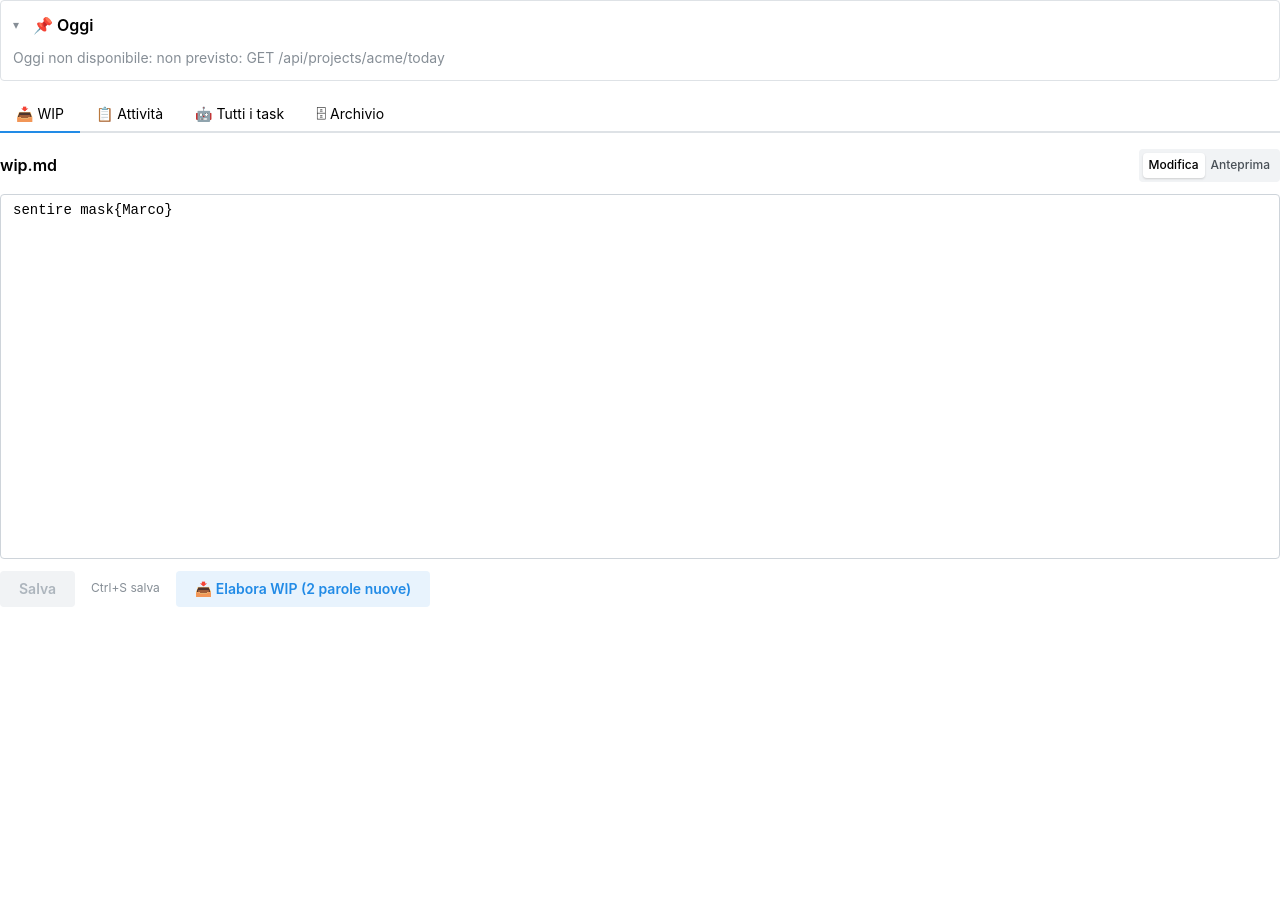
Test: the WIP note › previews the masked text, masks a word by hand, then applies the chosen proposals
Click the button "📥 Elabora WIP (2 parole nuove)" at (303,589), box left=176, top=571, right=430, bottom=607
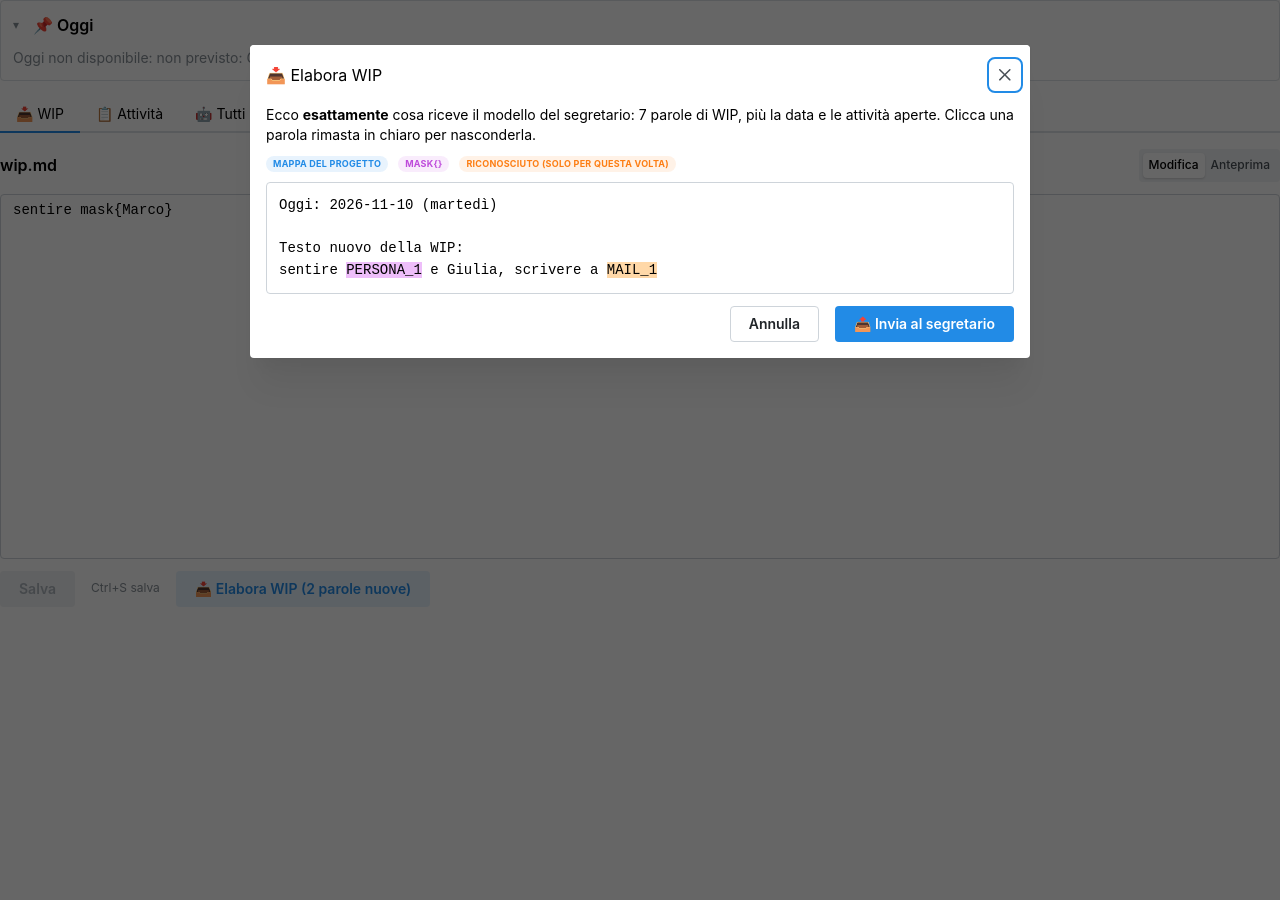
Click the text "Giulia" at (472,270), box left=447, top=262, right=498, bottom=278
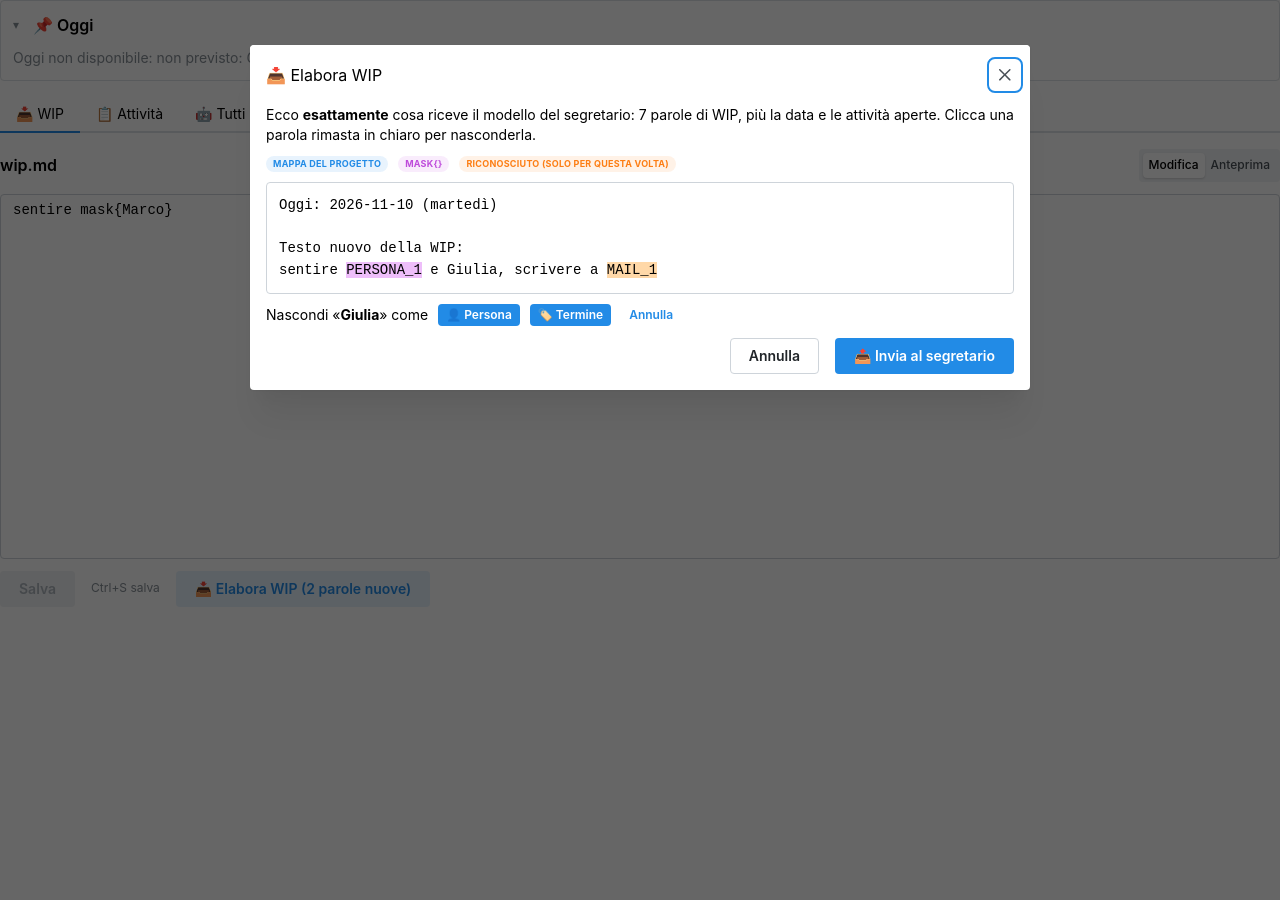
Click the button "👤 Persona" at (479,315), box left=438, top=304, right=520, bottom=326
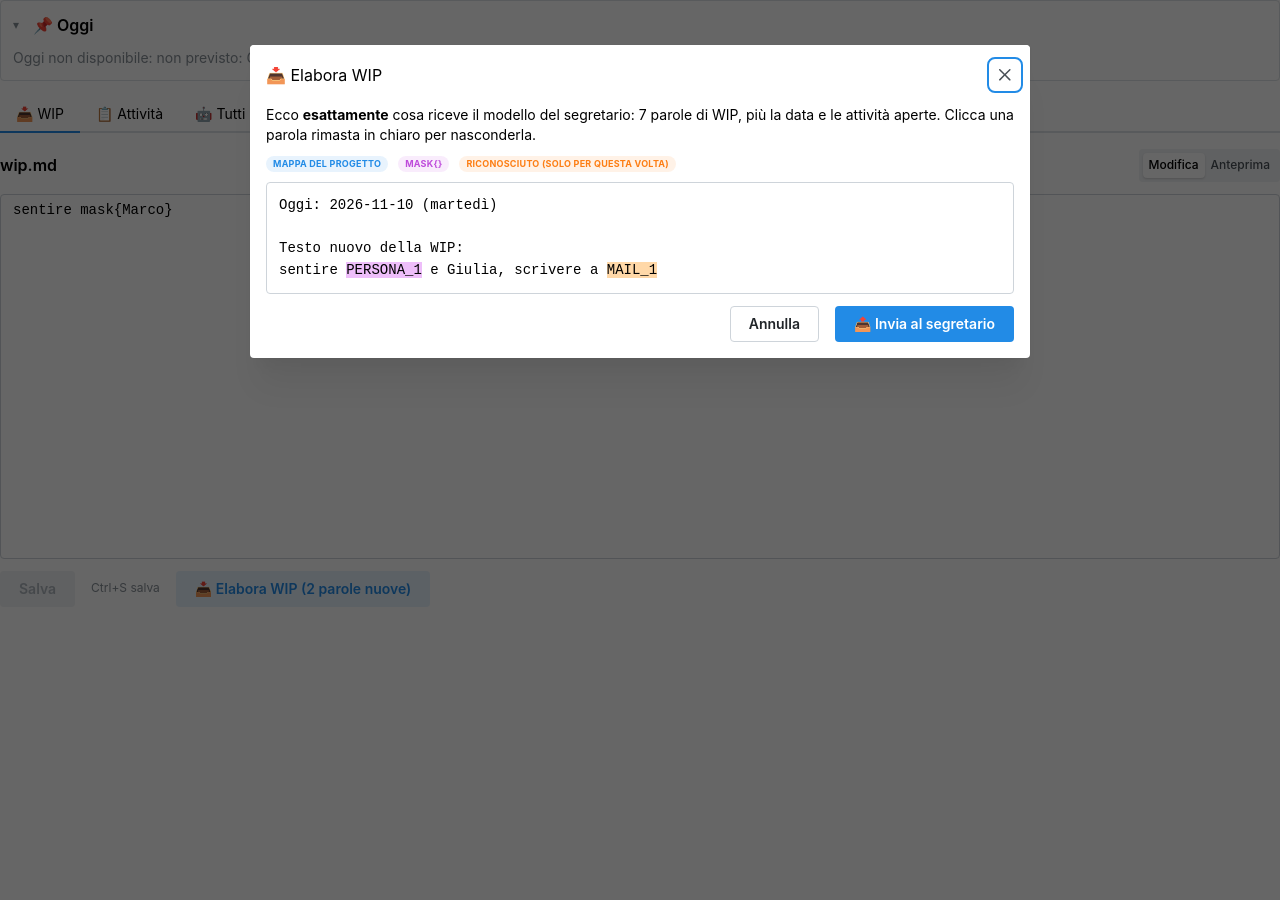
Click the button "📤 Invia al segretario" at (924,324), box left=835, top=306, right=1014, bottom=342
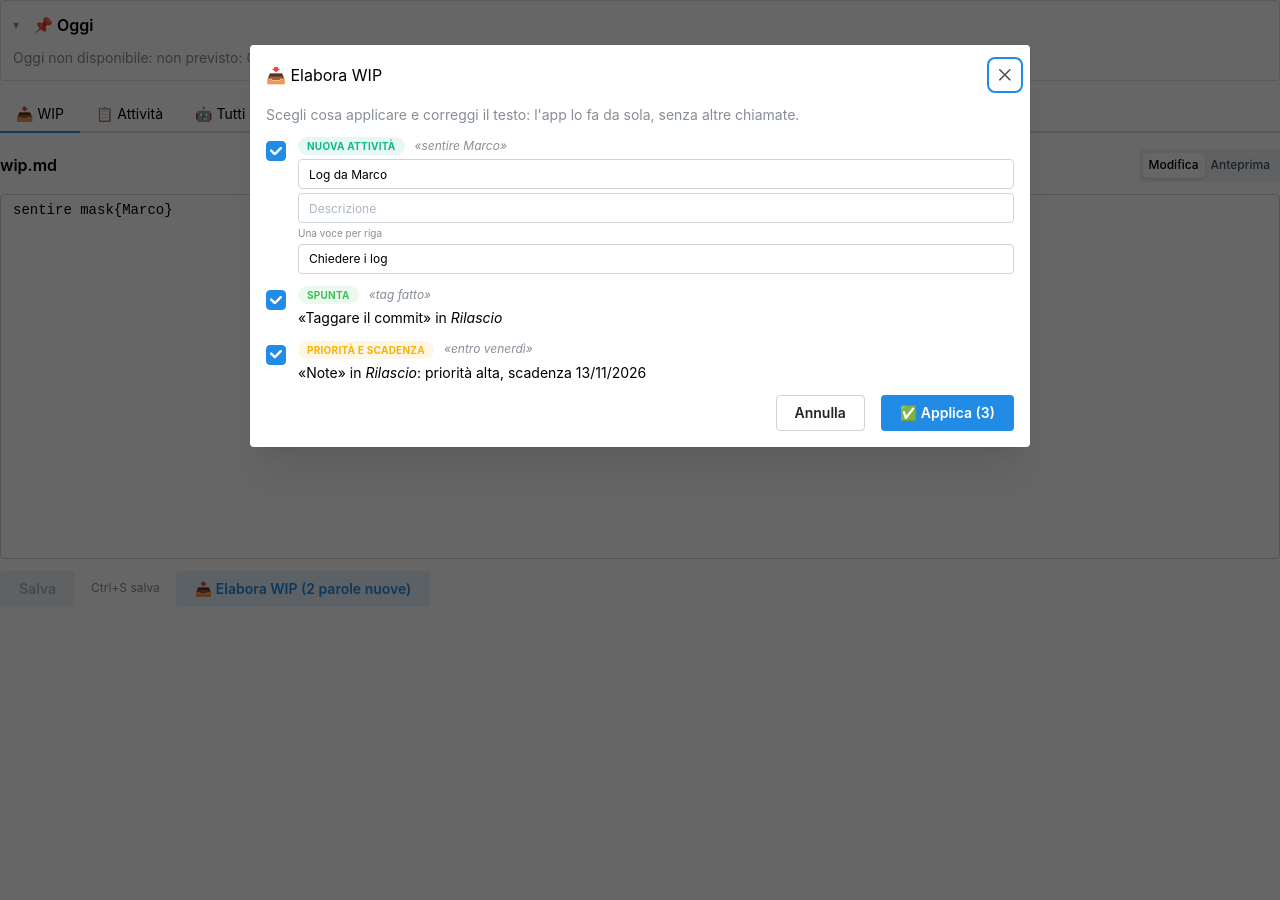
Now the text "«sentire Marco»" is shown, box left=414, top=138, right=507, bottom=155
Now the text "«Note» in Rilascio: priorità alta, scadenza 13/11/2026" is shown, box left=298, top=364, right=646, bottom=381
Replace the text in the field named "Titolo" with "Log dai sistemisti" at (656,174), box left=298, top=159, right=1014, bottom=189
Click the checkbox named "Scegli la proposta 3" at (276,355), box left=266, top=345, right=286, bottom=365
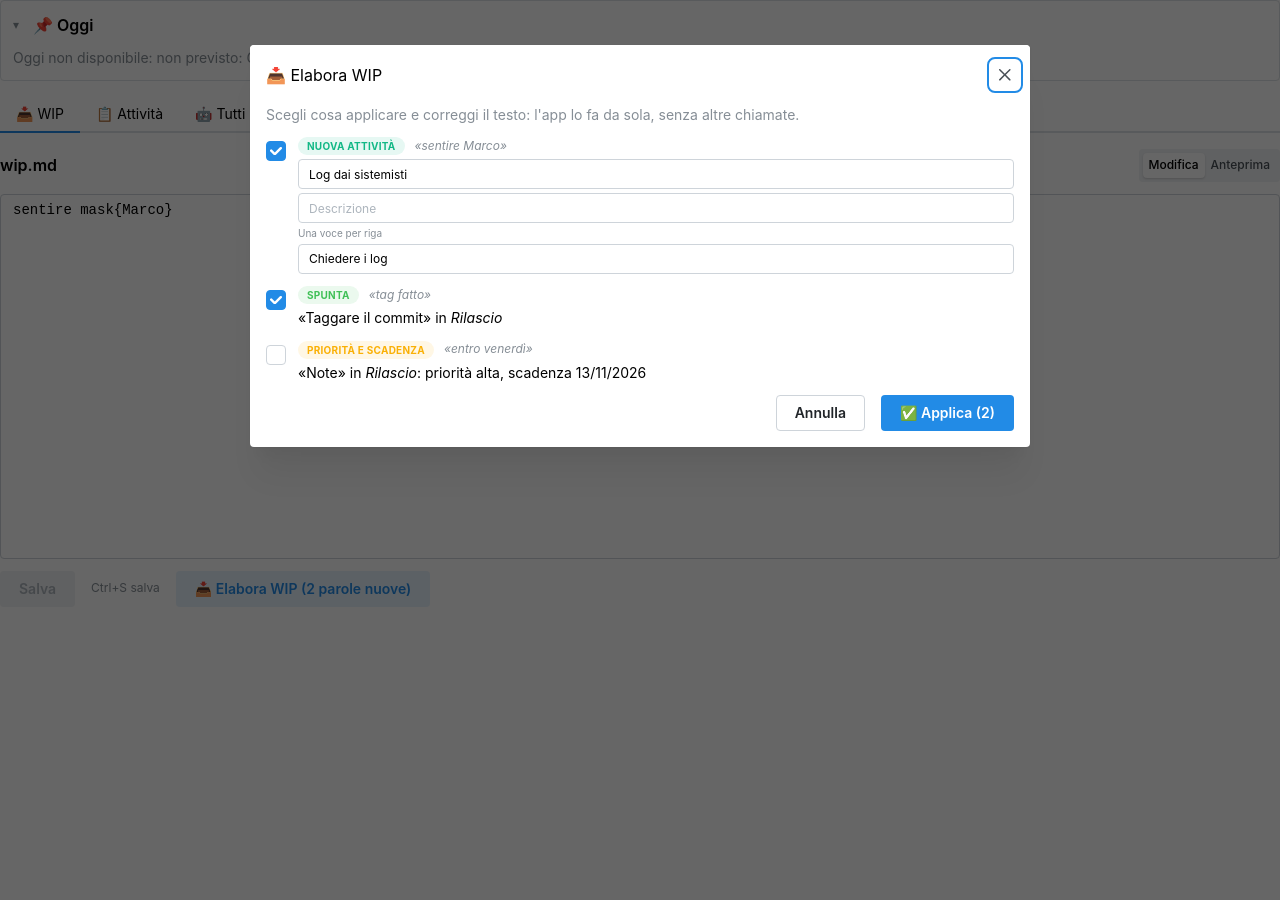
Click the button "✅ Applica (2)" at (948,413), box left=881, top=395, right=1014, bottom=431
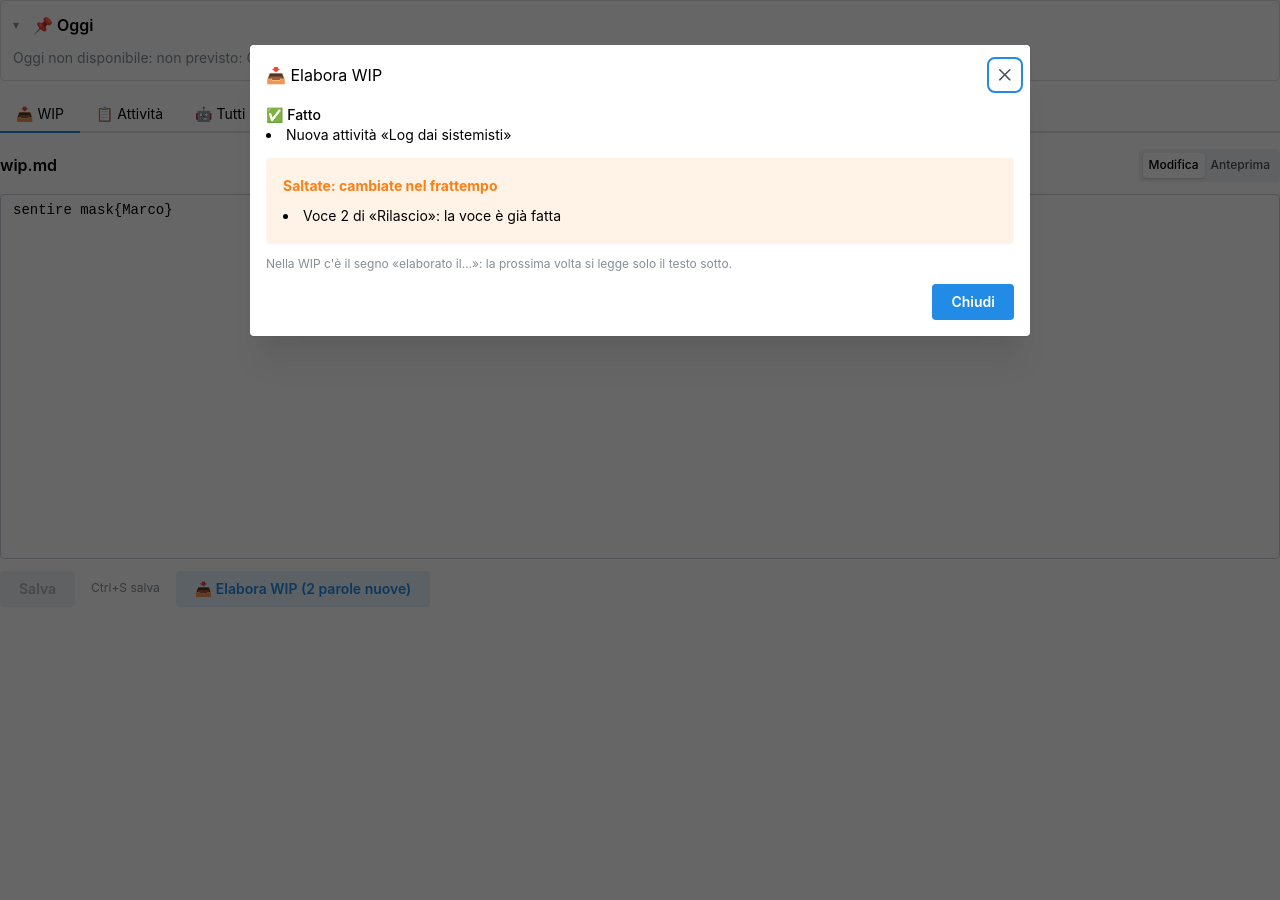
Now the text "Nuova attività «Log dai sistemisti»" is shown, box left=286, top=125, right=511, bottom=146
Now the text "Voce 2 di «Rilascio»: la voce è già fatta" is shown, box left=303, top=206, right=561, bottom=227
